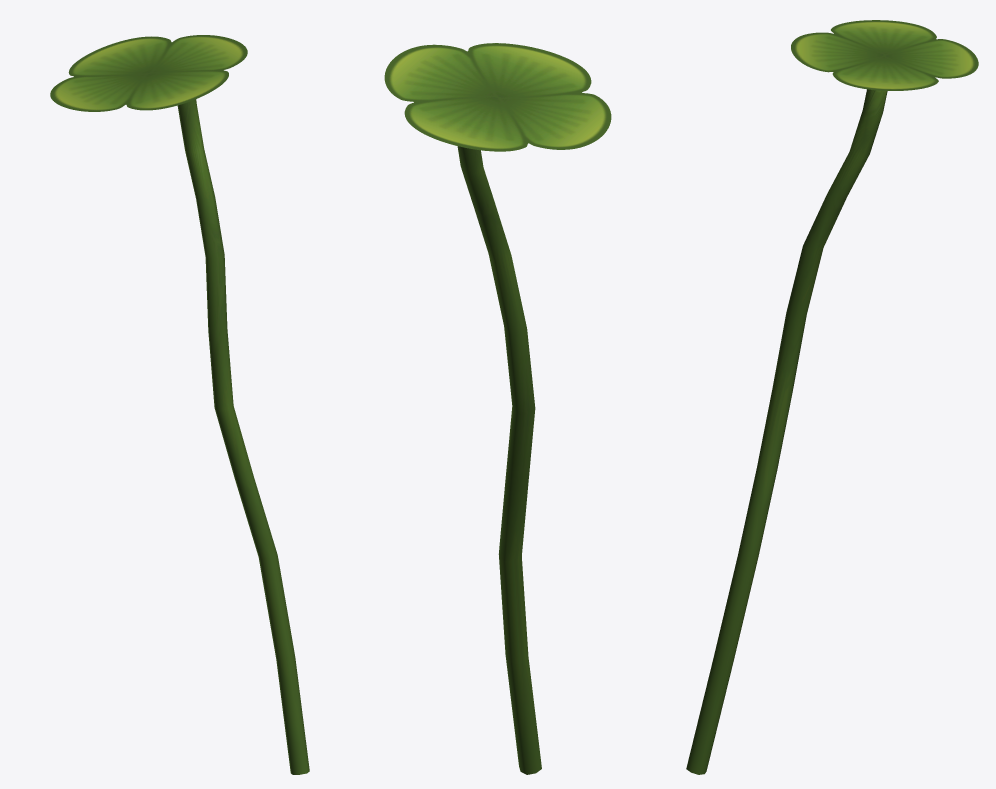
Rendered from LillypadBob.fbx.
3 renders of one model, left to right at view 1: azimuth 30°, elevation 25°; view 2: azimuth 150°, elevation 25°; view 3: azimuth 270°, elevation 25°, orthographic. The views are drawn at different scales.
Visible parts, largest first — view 1: LillypadBase (2), RoofTile; view 2: RoofTile, LillypadBase (2); view 3: LillypadBase (2), RoofTile.
Boxes of the visible parts, x1,y1,x2,y2 form: LillypadBase (2): (177,99,309,774); RoofTile: (50,35,247,111); RoofTile: (384,43,611,151); LillypadBase (2): (457,146,541,774); LillypadBase (2): (686,89,887,774); RoofTile: (791,20,978,90).
Bounding box in the file's own units: 0.8743 × 3.08 × 1.18.
1 material, 1 textured.
